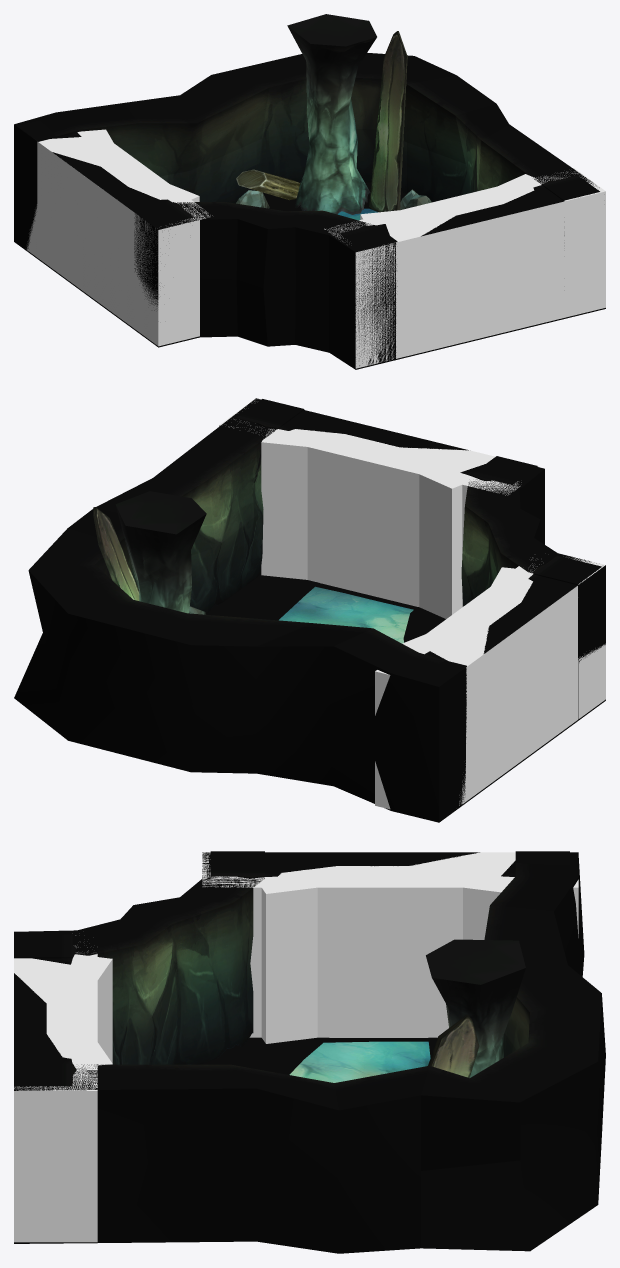
Rendered from Dungeon_073_RoadL_003.fbx.
3 views of the same model, one above another, from view 1: azimuth 30°, elevation 25°; view 2: azimuth 150°, elevation 25°; view 3: azimuth 270°, elevation 25° (orthographic). The views are drawn at different scales.
Visible parts, largest first — view 1: Dun_073_RoadL_003_wall, DoorWay_NavMask (3) (×2), DoorWay_NavMask (1) (×2), Dun_073_OB_Pillar, Dun_073_Door_002 (×2), Dun_073_OB_Rubble, DoorWay_NavMask (4) (×2), DoorWay_NavMask (2), Dun_073_OB_Stone01, Dun_073_RoadL_003_shadow; view 2: Dun_073_RoadL_003_wall, DoorWay_NavMask (3) (×2), DoorWay_NavMask (1) (×2), Dun_073_Door_002 (×2), DoorWay_NavMask (4) (×2), DoorWay_NavMask (2) (×2), Dun_073_OB_Pillar, Dun_073_RoadL_003_shadow, Dun_073_RoadL_003_ground, Dun_073_OB_Rubble; view 3: Dun_073_RoadL_003_wall, DoorWay_NavMask (3) (×2), DoorWay_NavMask (4) (×2), Dun_073_Door_002 (×2), Dun_073_OB_Pillar, DoorWay_NavMask (2) (×2), Dun_073_RoadL_003_ground, DoorWay_NavMask (1) (×2), Dun_073_RoadL_003_shadow, Dun_073_OB_Rubble.
Boxes of the visible parts, left/top/right/bottom form: Dun_073_RoadL_003_wall: left=14, top=52, right=605, bottom=369; DoorWay_NavMask (3) (×2): left=26, top=130, right=605, bottom=368; DoorWay_NavMask (1) (×2): left=37, top=141, right=546, bottom=358; Dun_073_OB_Pillar: left=287, top=14, right=376, bottom=214; Dun_073_Door_002 (×2): left=18, top=120, right=599, bottom=359; Dun_073_OB_Rubble: left=236, top=31, right=407, bottom=212; DoorWay_NavMask (4) (×2): left=131, top=174, right=541, bottom=202; DoorWay_NavMask (2): left=360, top=208, right=429, bottom=225; Dun_073_OB_Stone01: left=236, top=189, right=431, bottom=210; Dun_073_RoadL_003_shadow: left=264, top=182, right=406, bottom=210; Dun_073_RoadL_003_wall: left=14, top=398, right=605, bottom=822; DoorWay_NavMask (3) (×2): left=219, top=399, right=605, bottom=809; DoorWay_NavMask (1) (×2): left=288, top=430, right=575, bottom=801; Dun_073_Door_002 (×2): left=237, top=399, right=601, bottom=801; DoorWay_NavMask (4) (×2): left=261, top=429, right=532, bottom=600; DoorWay_NavMask (2) (×2): left=402, top=455, right=476, bottom=653; Dun_073_OB_Pillar: left=115, top=491, right=206, bottom=613; Dun_073_RoadL_003_shadow: left=205, top=573, right=445, bottom=642; Dun_073_RoadL_003_ground: left=279, top=586, right=413, bottom=643; Dun_073_OB_Rubble: left=93, top=507, right=139, bottom=600; Dun_073_RoadL_003_wall: left=14, top=852, right=605, bottom=1253; DoorWay_NavMask (3) (×2): left=14, top=852, right=578, bottom=1242; DoorWay_NavMask (4) (×2): left=49, top=868, right=345, bottom=1068; Dun_073_Door_002 (×2): left=14, top=851, right=569, bottom=1086; Dun_073_OB_Pillar: left=426, top=939, right=525, bottom=1077; DoorWay_NavMask (2) (×2): left=49, top=867, right=514, bottom=1062; Dun_073_RoadL_003_ground: left=289, top=1041, right=430, bottom=1082; DoorWay_NavMask (1) (×2): left=19, top=852, right=515, bottom=1064; Dun_073_RoadL_003_shadow: left=189, top=1037, right=437, bottom=1074; Dun_073_OB_Rubble: left=428, top=1015, right=479, bottom=1077.
Size of what is drawn, in the model's own units: 7.21 by 3 by 7.08.
